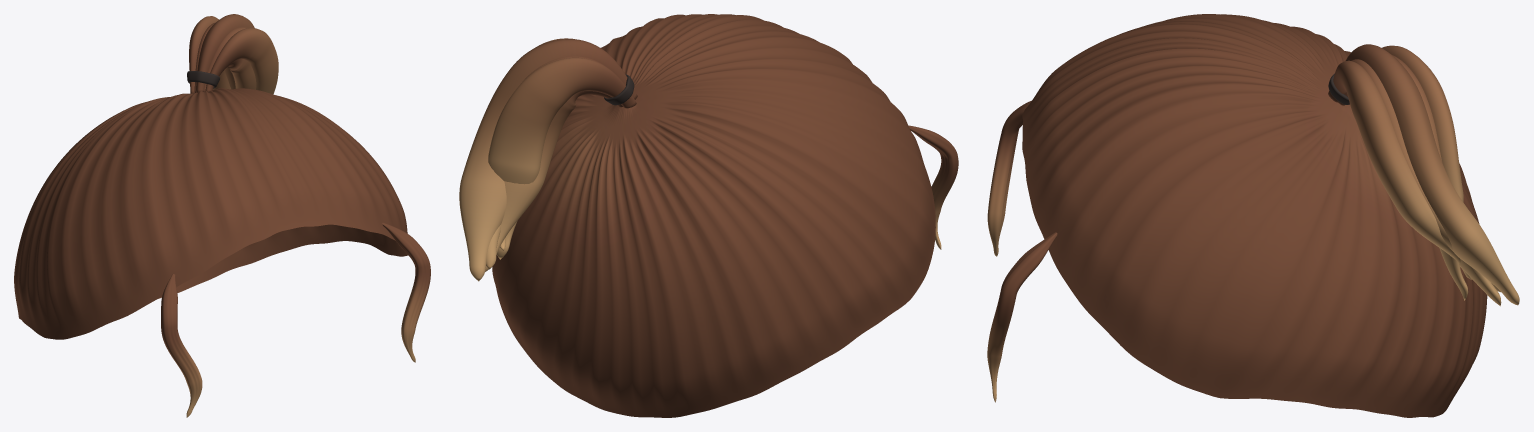
Rendered from ponytail-ears-ombre.glb.
3 renders of one model, left to right at view 1: azimuth 30°, elevation 25°; view 2: azimuth 150°, elevation 25°; view 3: azimuth 270°, elevation 25°, orthographic. The views are drawn at different scales.
Visible parts, largest first — view 1: Hair / swept roots220, Hair / rounded tail220 4, Hair / adjustable front216 1, Hair / adjustable front216 -1, Hair / rounded tail220 2, Hair / rounded tail220 3, Hair / rounded tail220 0; view 2: Hair / swept roots220, Hair / rounded tail220 0, Hair / rounded tail220 2, Hair / rounded tail220 1, Hair / adjustable front216 -1; view 3: Hair / swept roots220, Hair / rounded tail220 2, Hair / rounded tail220 4, Hair / rounded tail220 0, Hair / adjustable front216 1, Hair / adjustable front216 -1, Hair / rounded tail220 3, Hair / rounded tail220 1.
Part boxes in pixels (x1,y1,x2,y2): Hair / swept roots220: (14,87,408,339); Hair / rounded tail220 4: (205,28,278,94); Hair / adjustable front216 1: (382,222,430,362); Hair / adjustable front216 -1: (161,274,202,417); Hair / rounded tail220 2: (196,14,254,92); Hair / rounded tail220 3: (203,27,256,91); Hair / rounded tail220 0: (189,16,218,93); Hair / swept roots220: (492,14,935,417); Hair / rounded tail220 0: (488,57,636,259); Hair / rounded tail220 2: (459,39,637,281); Hair / rounded tail220 1: (485,56,622,271); Hair / adjustable front216 -1: (908,125,958,249); Hair / swept roots220: (1022,14,1487,417); Hair / rounded tail220 2: (1345,44,1519,305); Hair / rounded tail220 4: (1328,60,1471,279); Hair / rounded tail220 0: (1382,45,1468,300); Hair / adjustable front216 1: (987,232,1057,402); Hair / adjustable front216 -1: (987,100,1031,256); Hair / rounded tail220 3: (1338,59,1500,292); Hair / rounded tail220 1: (1392,55,1501,306).
Bounding box in the file's own units: 0.7728 × 0.6271 × 0.7842.
9 materials, 8 textured.
